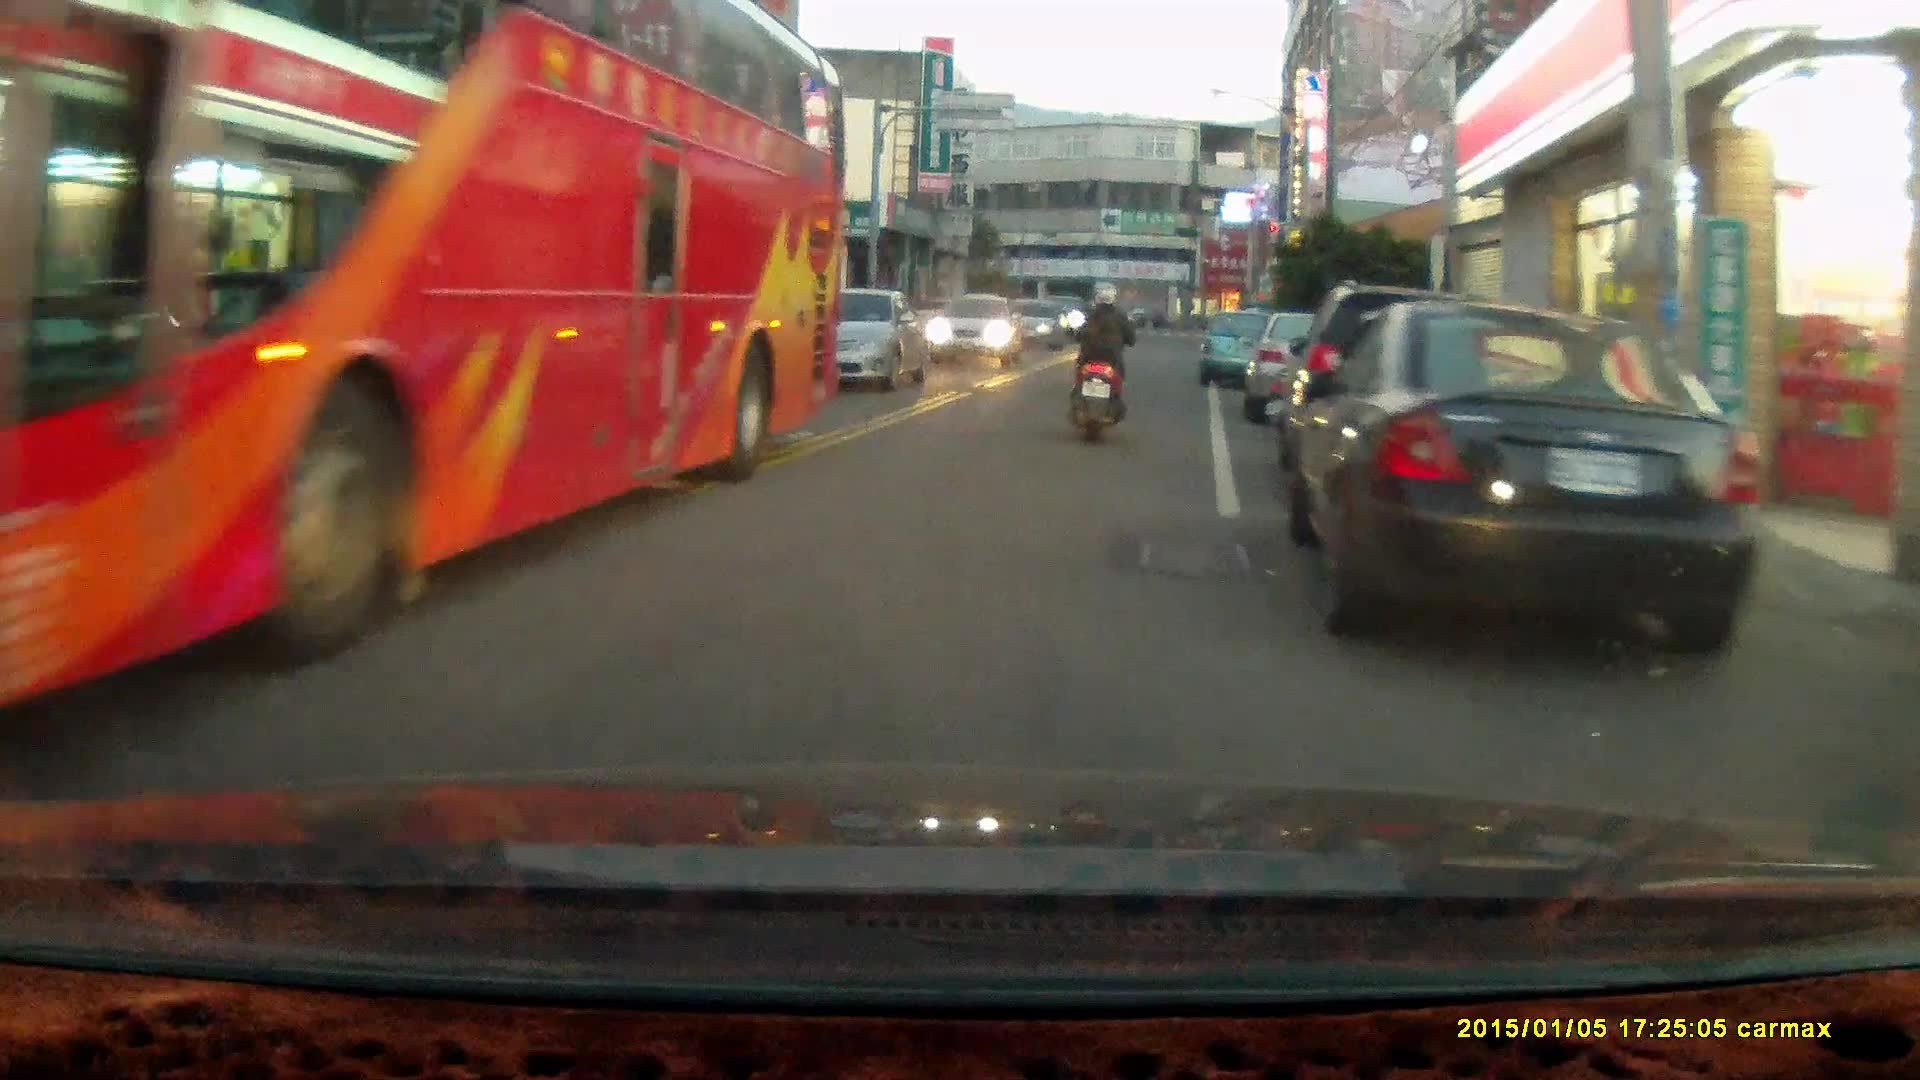rider: (1066, 282, 1136, 444)
vehicle: (1, 9, 853, 693), (1289, 302, 1788, 683), (1298, 270, 1559, 517), (1264, 304, 1450, 434), (776, 287, 926, 395), (1198, 307, 1292, 394), (928, 291, 1028, 368)
